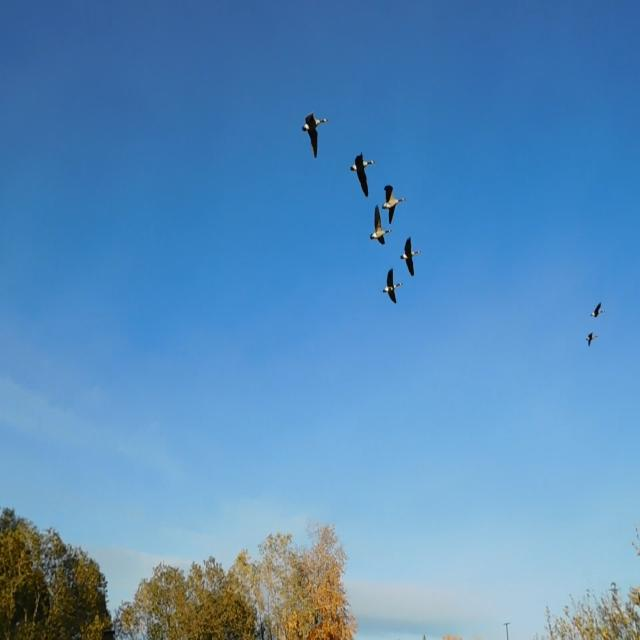bird: (349, 150, 376, 201), (301, 109, 328, 158), (382, 180, 408, 228), (367, 203, 391, 252), (399, 233, 422, 278), (383, 264, 403, 308), (585, 328, 598, 351), (588, 302, 606, 317)
